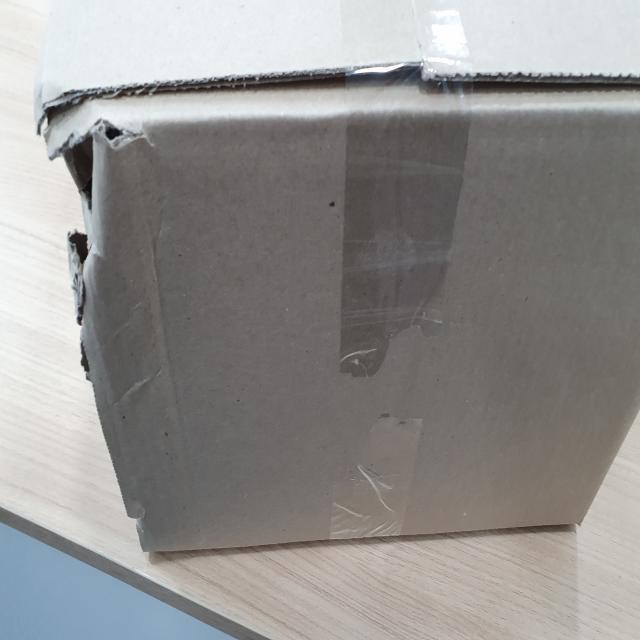hole: (66, 125, 102, 329)
